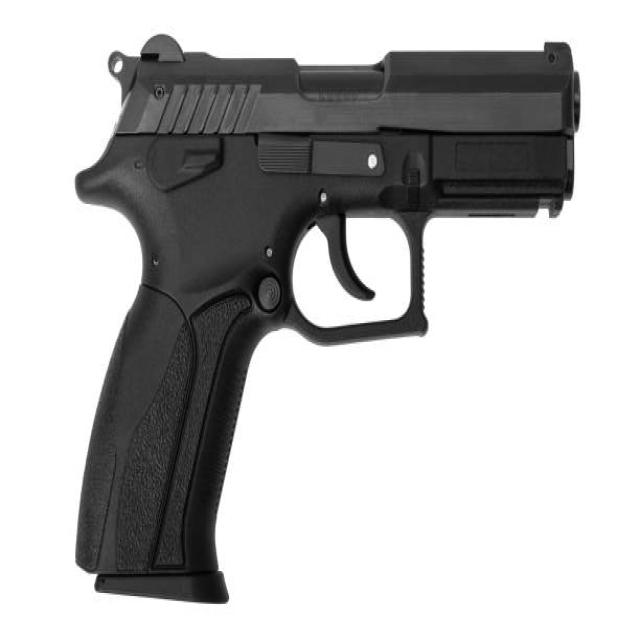pistol: (65, 22, 589, 606)
